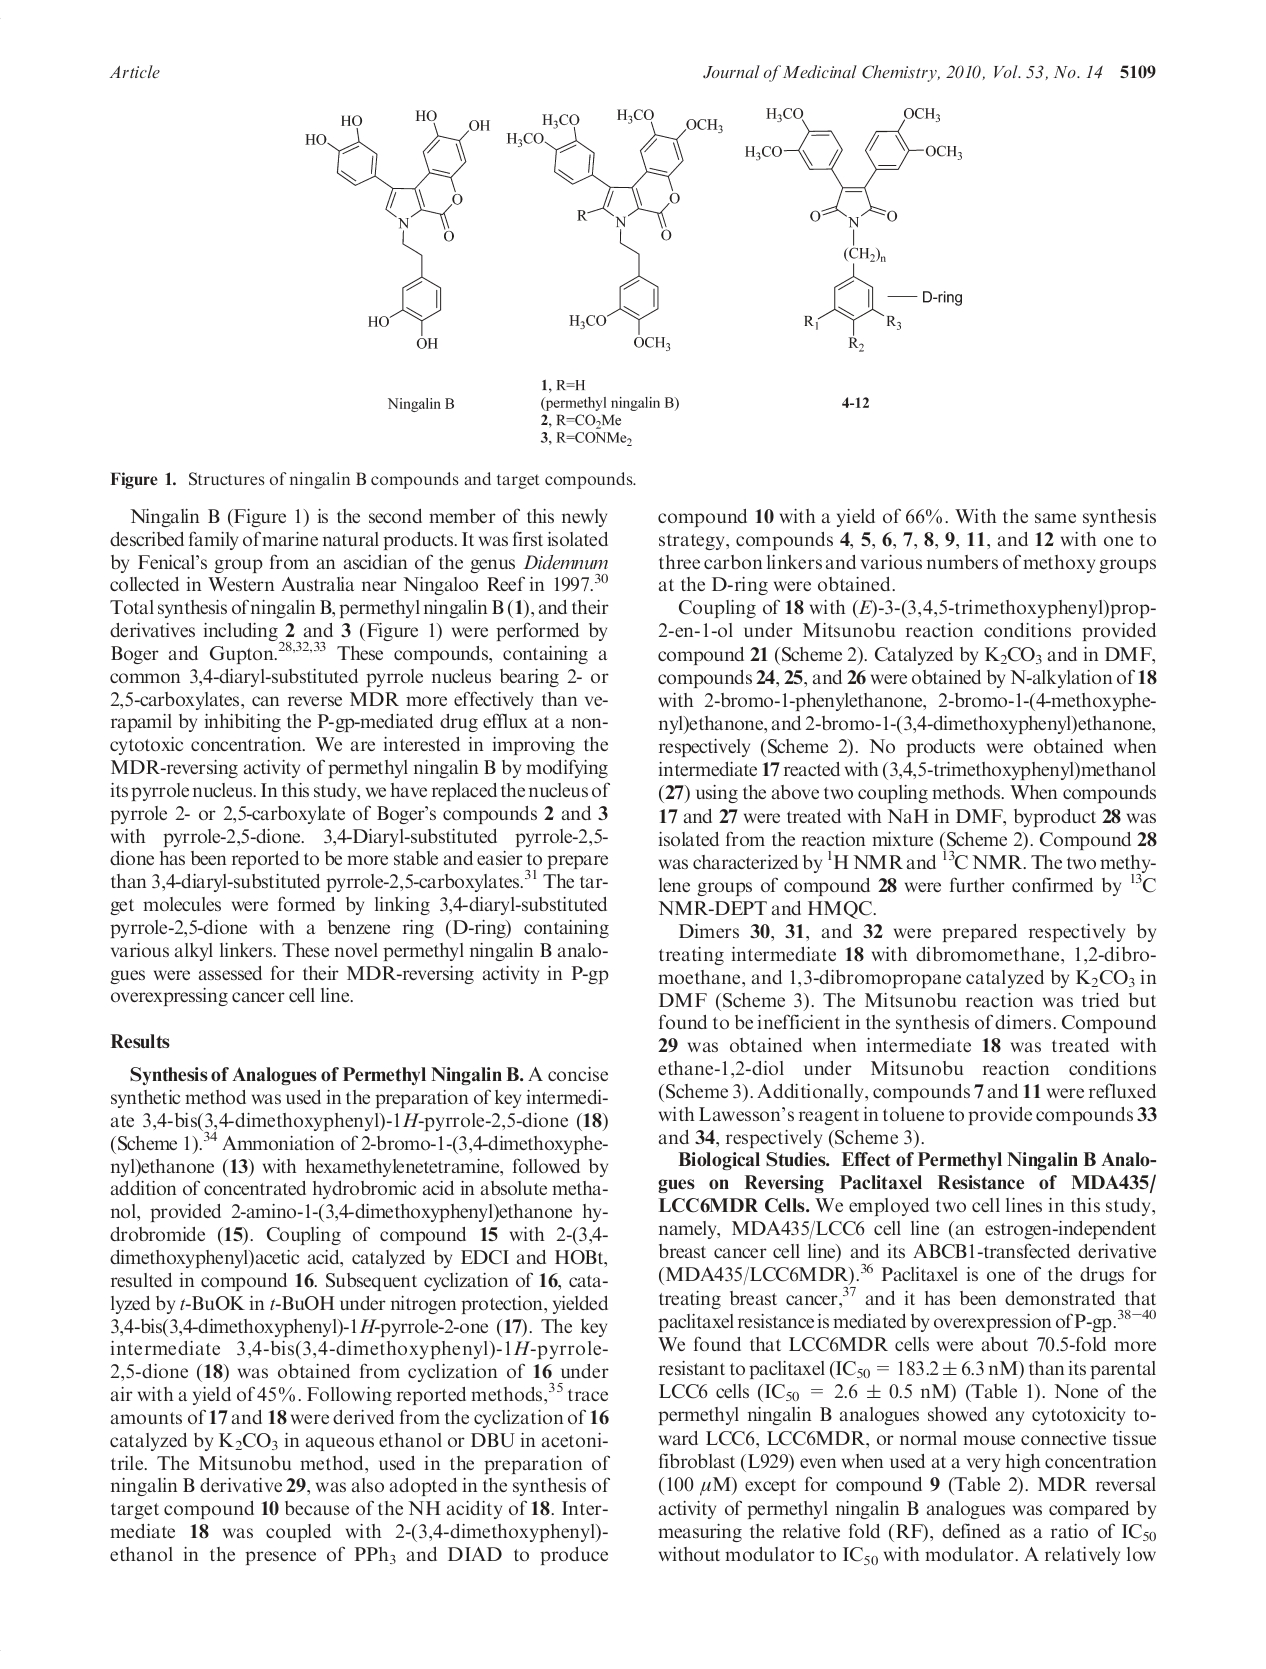exist_molecular: (739, 102, 963, 352), (501, 106, 725, 355), (297, 98, 492, 351)
